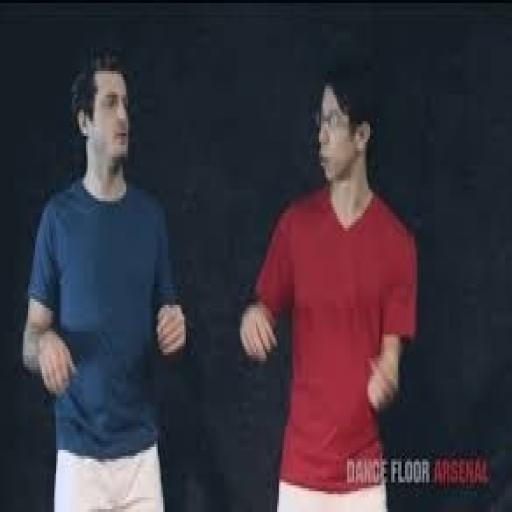dancing: (237, 59, 421, 509), (21, 44, 189, 509)
